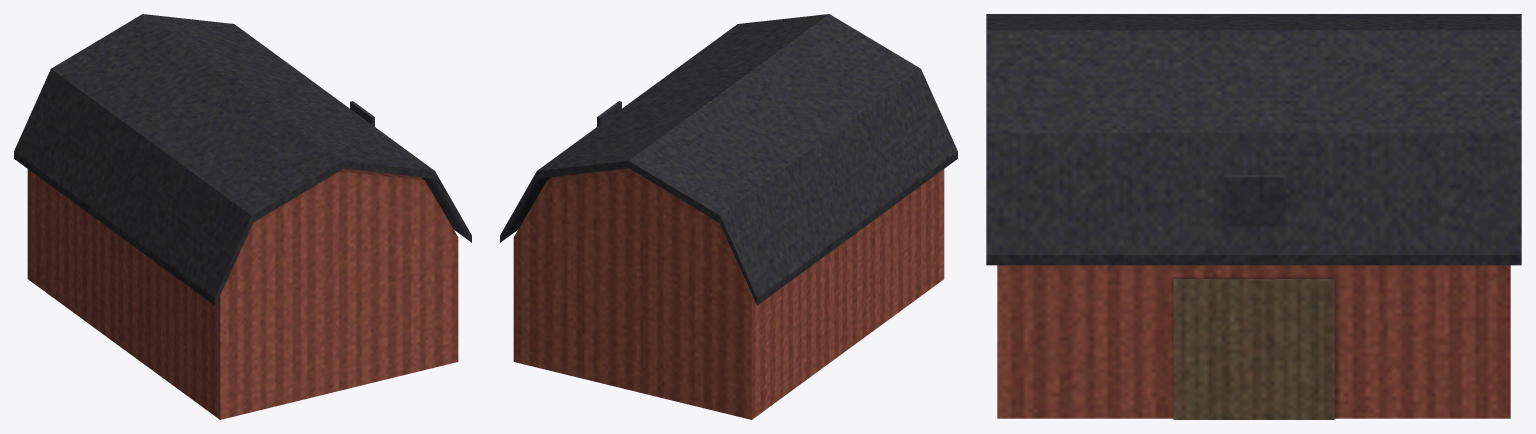
Rendered from SM_Barn.fbx.
3 views of the same model, side by side, from view 1: azimuth 30°, elevation 25°; view 2: azimuth 150°, elevation 25°; view 3: azimuth 270°, elevation 25° (orthographic). The views are drawn at different scales.
Visible parts, largest first — view 1: SM_Barn; view 2: SM_Barn; view 3: SM_Barn.
Part boxes in pixels (<box>): SM_Barn: <box>14,14,471,419</box>; SM_Barn: <box>500,14,957,419</box>; SM_Barn: <box>986,14,1521,419</box>.
Size of the model in its own units: 1080 by 935 by 1460.
Materials: 1 (1 with a texture image).
